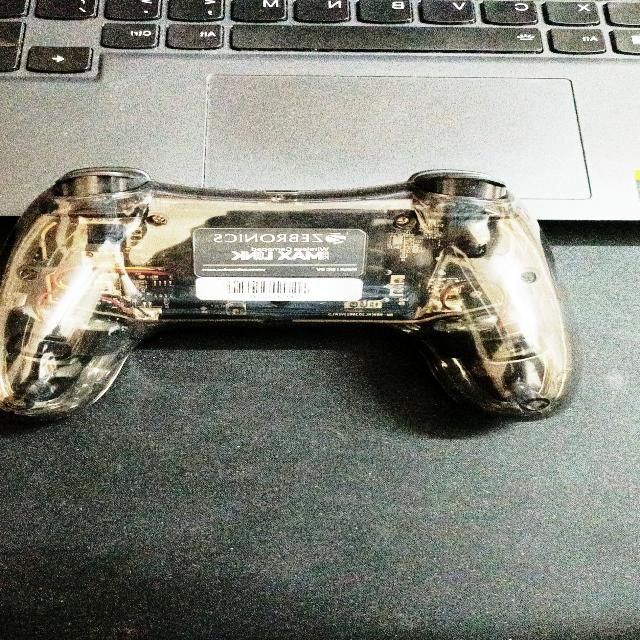gamepad: (0, 165, 574, 422)
